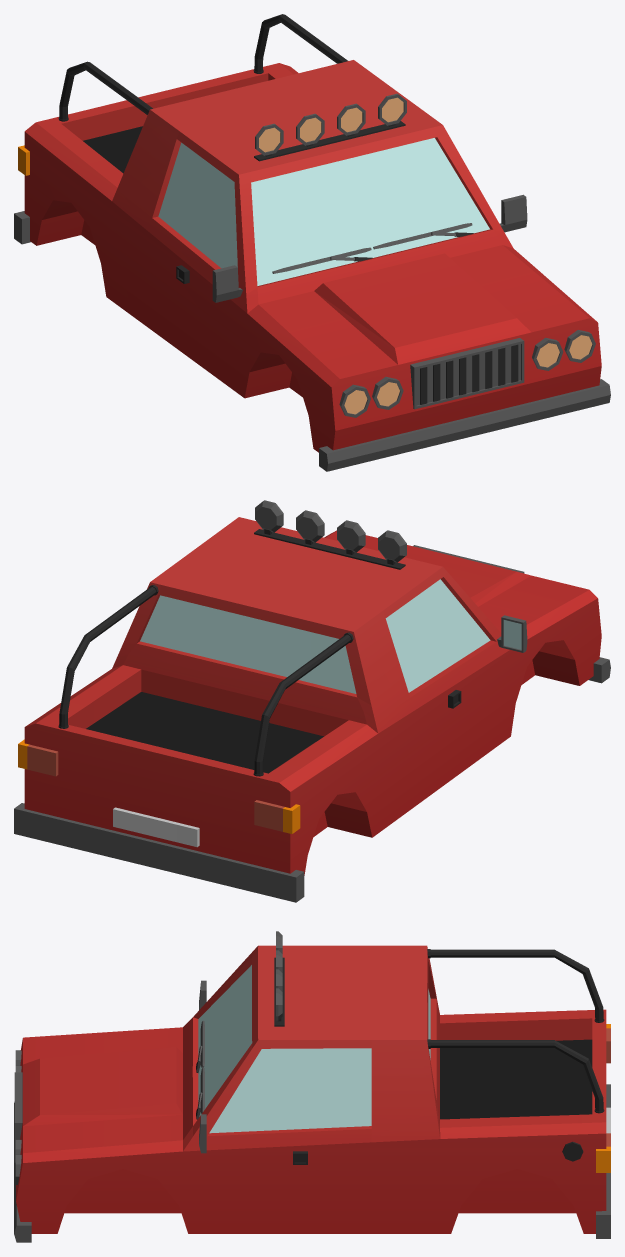
File: Car_19.fbx
3 renders of one model, top to bottom at view 1: azimuth 30°, elevation 25°; view 2: azimuth 150°, elevation 25°; view 3: azimuth 270°, elevation 25°, orthographic. The views are drawn at different scales.
Parts seen in each view (by area): view 1: Car_19; view 2: Car_19; view 3: Car_19.
Boxes of the visible parts, x1,y1,x2,y2 form: Car_19: (14,14,610,471); Car_19: (14,500,610,902); Car_19: (14,931,610,1242).
Bounding box in the file's own units: 187 × 130 × 328.
